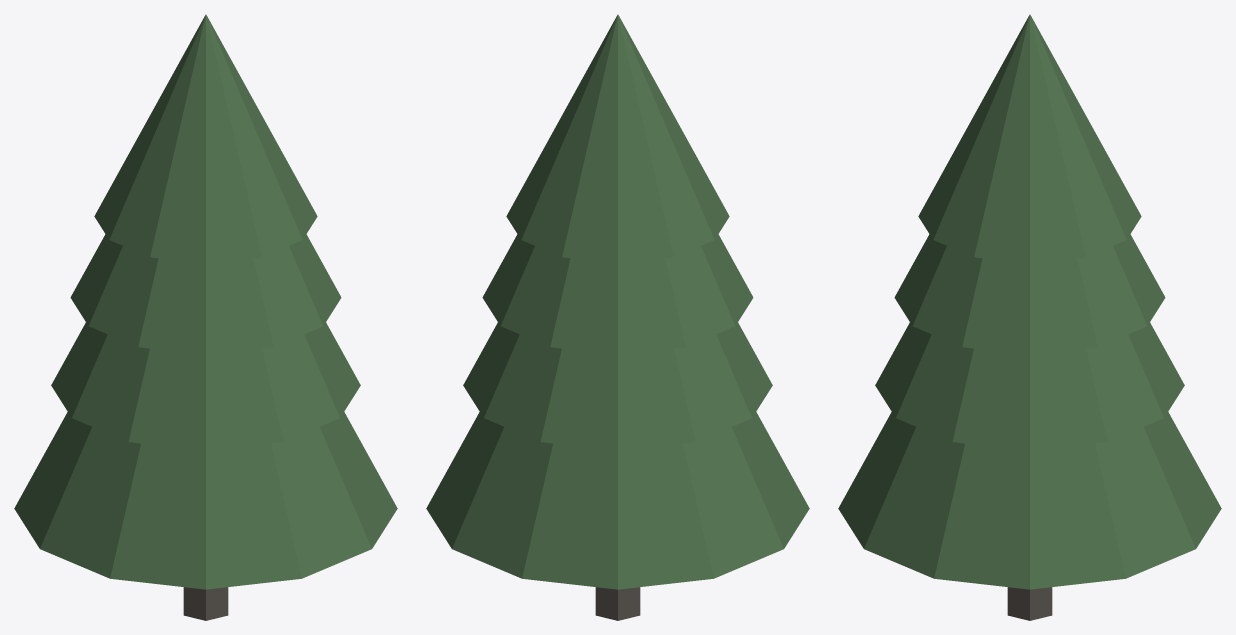
The model's file is Pine Tree.fbx.
3 views of the same model, side by side, from view 1: azimuth 30°, elevation 25°; view 2: azimuth 150°, elevation 25°; view 3: azimuth 270°, elevation 25° (orthographic).
Parts seen in each view (by area): view 1: pCylinder2; view 2: pCylinder2; view 3: pCylinder2.
Part boxes in pixels (left/top/right/bottom): pCylinder2: left=14, top=14, right=397, bottom=620; pCylinder2: left=426, top=14, right=809, bottom=620; pCylinder2: left=838, top=14, right=1221, bottom=620.
Bounding box in the file's own units: 14.95 × 25.64 × 14.95.
